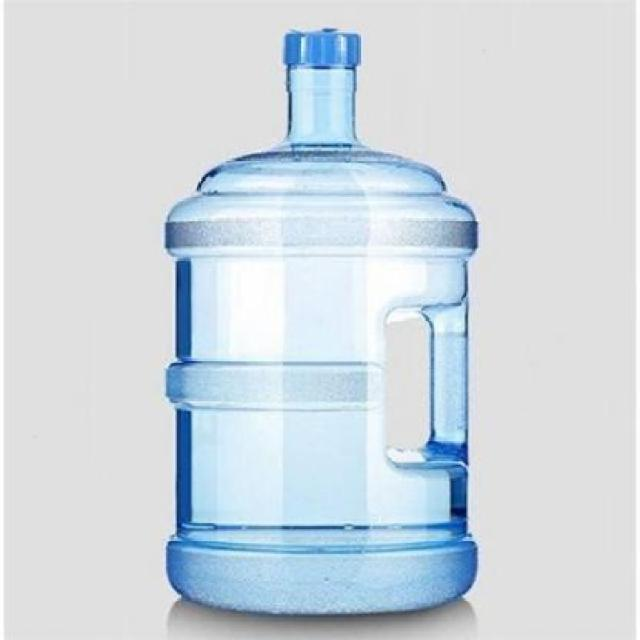coolerbottle: (157, 23, 487, 623)
